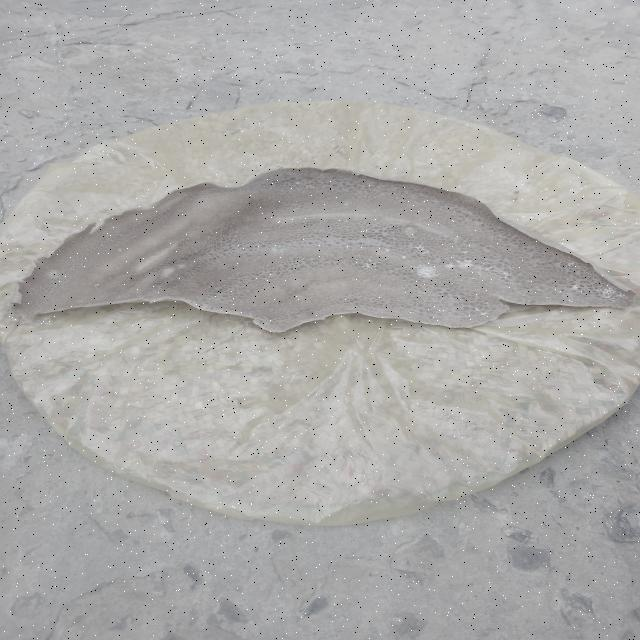injera_mold: (412, 265, 439, 279), (357, 257, 380, 271), (598, 285, 613, 298), (45, 270, 62, 280), (459, 258, 472, 270), (476, 308, 490, 318), (270, 245, 284, 254), (413, 244, 427, 252), (449, 235, 461, 244), (446, 260, 454, 273), (477, 267, 484, 280), (342, 200, 354, 207), (501, 269, 508, 281), (571, 283, 581, 291), (306, 183, 316, 190), (534, 287, 545, 293), (616, 293, 626, 299), (92, 283, 103, 288), (293, 180, 302, 186), (383, 248, 393, 253), (486, 267, 496, 272), (116, 248, 124, 254), (568, 261, 576, 267), (482, 300, 494, 304), (389, 261, 395, 269), (292, 207, 301, 212), (556, 261, 561, 270), (609, 298, 616, 304), (507, 265, 515, 270), (401, 255, 408, 260), (481, 261, 489, 265), (462, 250, 470, 254), (569, 299, 575, 304), (471, 276, 476, 282), (545, 296, 554, 299), (591, 272, 596, 277), (422, 292, 428, 296), (499, 263, 505, 267), (403, 266, 409, 270), (351, 294, 357, 298), (366, 240, 373, 243), (339, 255, 344, 259), (584, 270, 589, 274), (401, 278, 406, 282), (362, 279, 368, 282), (573, 291, 578, 294), (501, 290, 506, 293), (592, 290, 595, 294), (391, 287, 397, 289), (582, 291, 585, 294), (367, 248, 371, 250), (337, 273, 341, 275), (392, 278, 394, 280)
